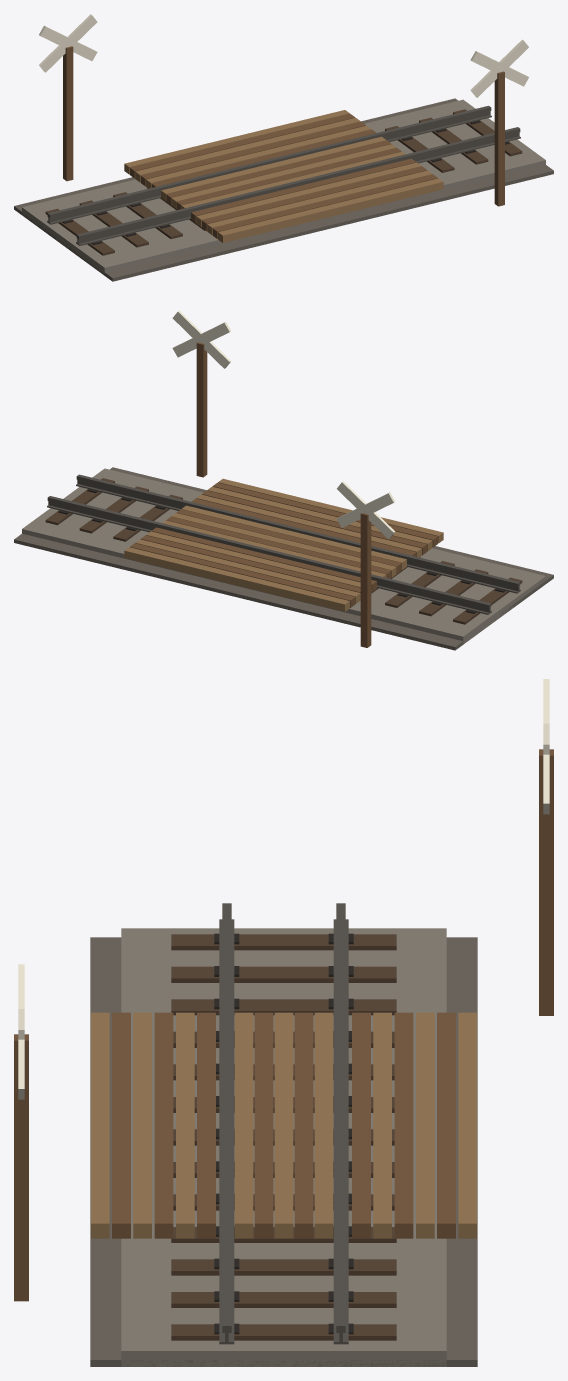
Rendered from rieles-riel-paso-nivel.glb.
3 renders of one model, top to bottom at view 1: azimuth 30°, elevation 25°; view 2: azimuth 150°, elevation 25°; view 3: azimuth 270°, elevation 25°, orthographic. The views are drawn at different scales.
Parts seen in each view (by area): view 1: riel_paso_nivel_Madera, riel_paso_nivel_MaderaClara, riel_paso_nivel_Balasto, riel_paso_nivel_Riel, riel_paso_nivel_BalastoHombro, riel_paso_nivel_Durmiente, riel_paso_nivel_Senal, riel_paso_nivel_PlacaApoyo; view 2: riel_paso_nivel_Madera, riel_paso_nivel_MaderaClara, riel_paso_nivel_Balasto, riel_paso_nivel_Riel, riel_paso_nivel_BalastoHombro, riel_paso_nivel_Durmiente, riel_paso_nivel_Senal; view 3: riel_paso_nivel_Balasto, riel_paso_nivel_Madera, riel_paso_nivel_MaderaClara, riel_paso_nivel_Durmiente, riel_paso_nivel_BalastoHombro, riel_paso_nivel_Riel, riel_paso_nivel_PlacaApoyo, riel_paso_nivel_Senal.
Part boxes in pixels (x1,y1,x2,y2): riel_paso_nivel_Madera: (63,46,504,238); riel_paso_nivel_MaderaClara: (124,110,443,242); riel_paso_nivel_Balasto: (22,99,545,274); riel_paso_nivel_Riel: (47,105,520,245); riel_paso_nivel_BalastoHombro: (14,98,553,281); riel_paso_nivel_Durmiente: (45,109,522,255); riel_paso_nivel_Senal: (39,14,528,97); riel_paso_nivel_PlacaApoyo: (62,120,509,244); riel_paso_nivel_Madera: (130,342,437,647); riel_paso_nivel_MaderaClara: (124,478,443,611); riel_paso_nivel_Balasto: (22,468,545,644); riel_paso_nivel_Riel: (47,474,520,614); riel_paso_nivel_BalastoHombro: (14,467,553,650); riel_paso_nivel_Durmiente: (45,478,522,624); riel_paso_nivel_Senal: (172,310,395,539); riel_paso_nivel_Balasto: (121,928,446,1366); riel_paso_nivel_Madera: (14,749,553,1301); riel_paso_nivel_MaderaClara: (91,1012,476,1238); riel_paso_nivel_Durmiente: (171,934,396,1340); riel_paso_nivel_BalastoHombro: (90,937,477,1366); riel_paso_nivel_Riel: (219,903,348,1344); riel_paso_nivel_PlacaApoyo: (214,933,353,1334); riel_paso_nivel_Senal: (18,679,549,1099).
Size of the model in its own units: 8 by 2.75 by 4.32.
